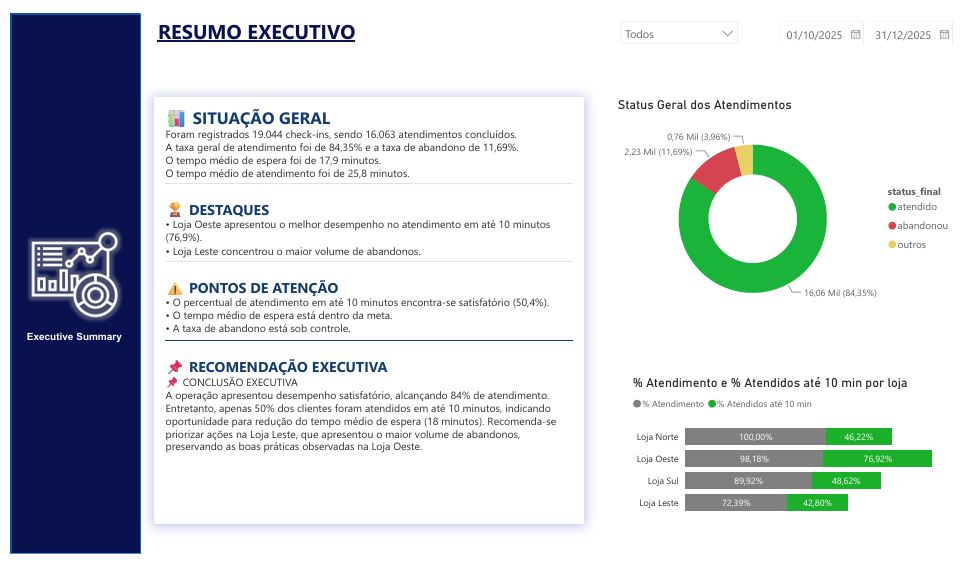

The dashboard page shown, as its layout file describes it:
{"tool":"powerbi","page":{"name":"Resumo executivo","canvas":[1280,720],"ordinal":1},"visuals":[{"type":"shape","box":[0,0,173.3,720],"z":0,"group":"g1"},{"type":"slicer","fields":{"Values":["base_consolidada.loja"]},"box":[803,0,176.1,44.8],"z":0},{"type":"slicer","title":"Loja","fields":{"Values":["base_consolidada.checkin"]},"box":[1012.3,0,252,41.8],"z":1000},{"type":"image","box":[16.7,265,136.7,165],"z":1000,"group":"g1"},{"type":"htmlContent443BE3AD55E043BF878BED274D3A6855","title":"RESUMO EXECUTIVO ","fields":{"content":["base_consolidada.Resumo Executivo HTML v3"]},"box":[191.3,111.6,572.3,569.1],"z":2000},{"type":"donutChart","title":"Status Geral dos Atendimentos","fields":{"Category":["base_consolidada.status_final"],"Y":["CountNonNull(base_consolidada.status_final)"]},"box":[803.5,110.9,460.8,305.3],"z":3000},{"type":"barChart","fields":{"Y":["base_consolidada.% Atendimento","base_consolidada.% Atendidos até 10 min"],"Category":["base_consolidada.loja"]},"box":[824.1,481.4,455.9,199.3],"z":4000},{"type":"group","id":"g1","title":"Grupo 1","box":[0,0,173.3,720],"z":5000},{"type":"textbox","box":[16.4,416.3,136.8,52],"z":6000},{"type":"textbox","box":[191,0,553.8,71.8],"z":7000}]}

Visuals, with their boxes on the page's 1280x720 design canvas (x1, y1, x2, y2). These are canvas units, not pixel positions in the 968x562 screenshot, which may show the page scaled, cropped or inside an application window:
shape: [0,0,173,720]
slicer - base_consolidada.loja: [803,0,979,45]
"Loja" slicer: [1012,0,1264,42]
image: [17,265,153,430]
"RESUMO EXECUTIVO " htmlContent443BE3AD55E043BF878BED274D3A6855: [191,112,764,681]
"Status Geral dos Atendimentos" donutChart: [804,111,1264,416]
barChart - base_consolidada.% Atendimento x base_consolidada.% Atendidos até 10 min: [824,481,1280,681]
"Grupo 1" group: [0,0,173,720]
textbox: [16,416,153,468]
textbox: [191,0,745,72]
